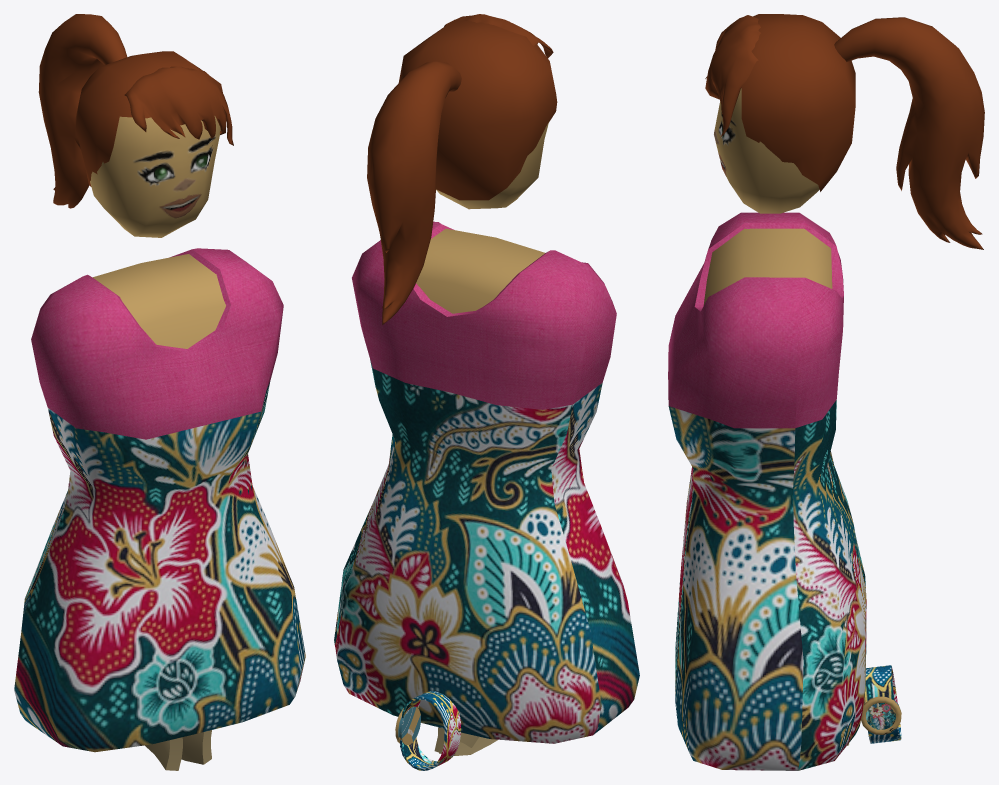
Rendered from Avatar2.fbx.
The picture shows the model from 3 angles, left to right: view 1: azimuth 30°, elevation 25°; view 2: azimuth 150°, elevation 25°; view 3: azimuth 270°, elevation 25°; orthographic projection. The views are drawn at different scales.
Parts seen in each view (by area): view 1: Body2, Hair2, Head2, HandR, HandL; view 2: Body2, Hair2, Watch, Head2, HandL; view 3: Body2, Hair2, Head2, Watch.
Boxes of the visible parts, x1,y1,x2,y2 form: Body2: [14, 248, 305, 752]; Hair2: [38, 14, 233, 208]; Head2: [90, 116, 220, 237]; HandR: [181, 730, 211, 764]; HandL: [145, 737, 182, 770]; Body2: [334, 221, 639, 743]; Hair2: [367, 14, 557, 324]; Watch: [395, 691, 461, 770]; Head2: [436, 122, 548, 209]; HandL: [438, 727, 497, 755]; Body2: [668, 212, 866, 770]; Hair2: [705, 14, 984, 249]; Head2: [714, 88, 819, 213]; Watch: [861, 665, 901, 743].
Bounding box in the file's own units: 43.9 × 113 × 43.98.
Materials: 4 (2 with a texture image).
